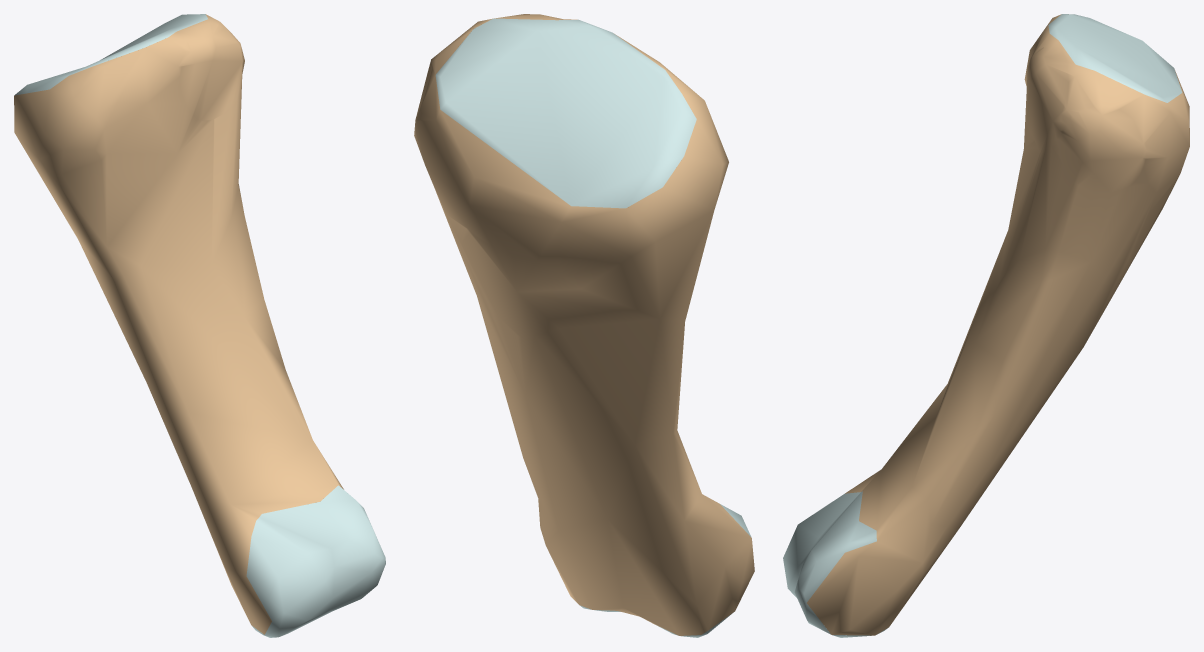
The model's file is Phalanx_proximal_5th_finger_right.glb.
3 renders of one model, left to right at view 1: azimuth 30°, elevation 25°; view 2: azimuth 150°, elevation 25°; view 3: azimuth 270°, elevation 25°, orthographic. The views are drawn at different scales.
Visible parts, largest first — view 1: Proximal_phalanx_of_5th_finger.r_Generated_Mesh_From_X3D.705; view 2: Proximal_phalanx_of_5th_finger.r_Generated_Mesh_From_X3D.705; view 3: Proximal_phalanx_of_5th_finger.r_Generated_Mesh_From_X3D.705.
Part boxes in pixels (bbox=[...]): Proximal_phalanx_of_5th_finger.r_Generated_Mesh_From_X3D.705: bbox=[14, 14, 385, 637]; Proximal_phalanx_of_5th_finger.r_Generated_Mesh_From_X3D.705: bbox=[414, 14, 754, 637]; Proximal_phalanx_of_5th_finger.r_Generated_Mesh_From_X3D.705: bbox=[783, 14, 1189, 637].
Size of the model in its own units: 0.0148 by 0.0338 by 0.0216.
